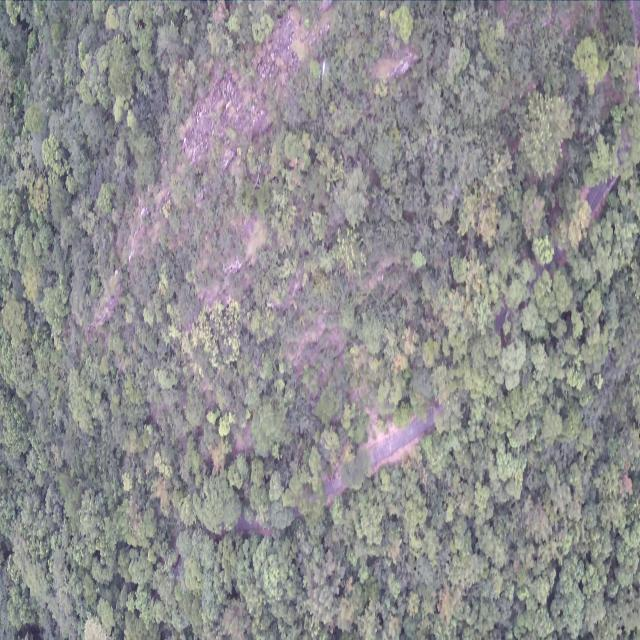drone: (318, 58, 329, 80)
